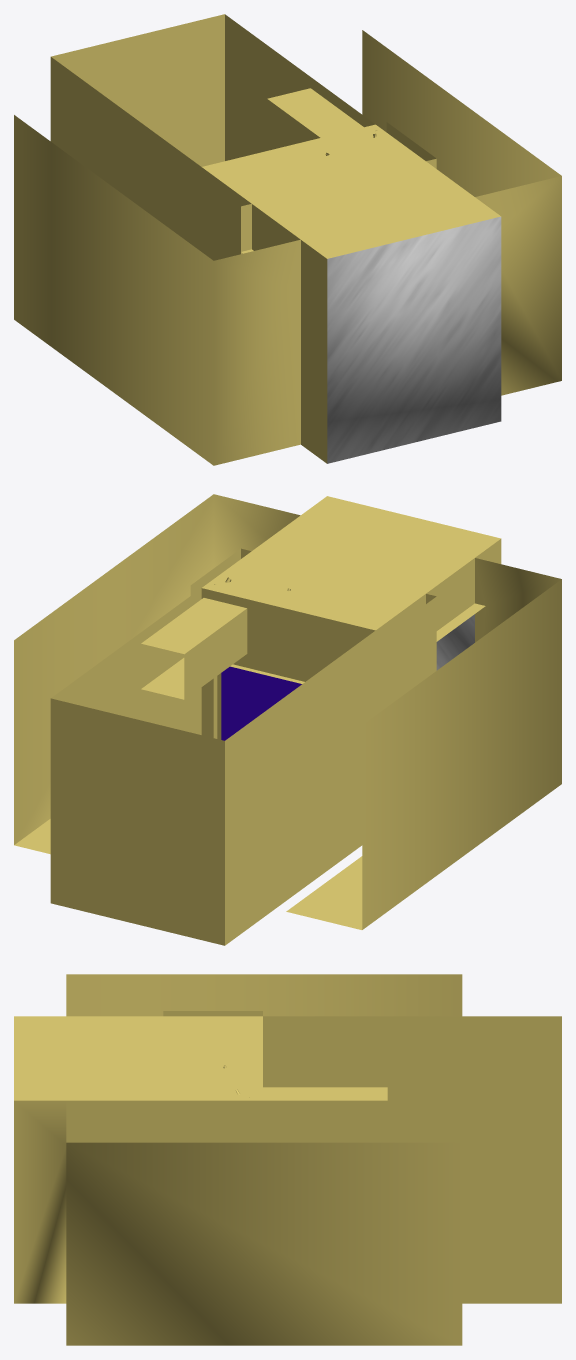
Rendered from low-office.fbx.
The picture shows the model from 3 angles, top to bottom: view 1: azimuth 30°, elevation 25°; view 2: azimuth 150°, elevation 25°; view 3: azimuth 270°, elevation 25°; orthographic projection.
Parts seen in each view (by area): view 1: office, new UV; view 2: office, new UV; view 3: office.
Part boxes in pixels (bbox=[...]): office: bbox=[14, 14, 561, 465]; new UV: bbox=[327, 216, 501, 463]; office: bbox=[14, 494, 561, 945]; new UV: bbox=[436, 614, 474, 670]; office: bbox=[14, 974, 561, 1345].
Bounding box in the file's own units: 1600 × 917 × 2200.
